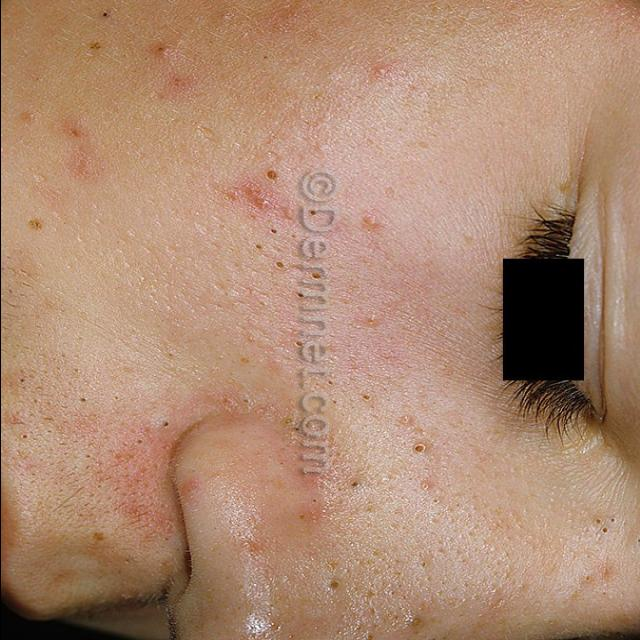Acne: (244, 185, 278, 218), (162, 74, 198, 102), (356, 210, 384, 234), (368, 61, 394, 83), (356, 311, 383, 331), (150, 41, 176, 61), (593, 563, 617, 582)
